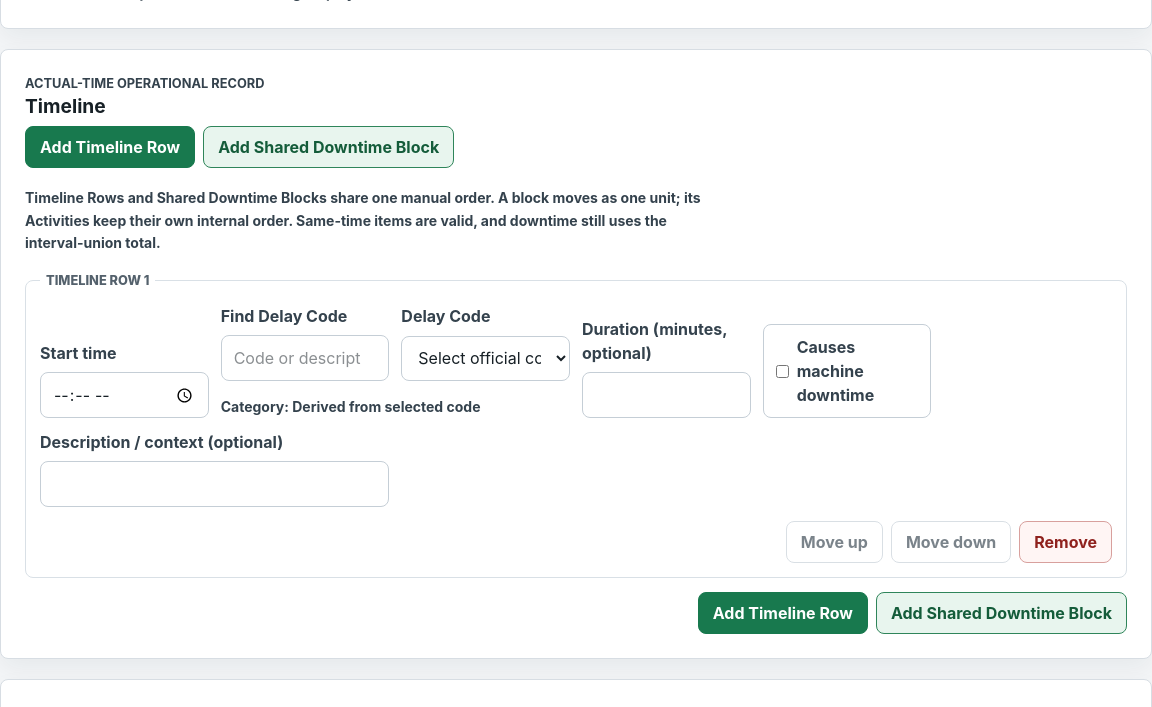
it: DraglineDelayReportForm › provides one searchable, category-grouped official Delay Code control
The image size is (1152, 707).
(page scrolled)
Type "surveying" into the search field named "Find Delay Code for row 1" at {"x": 305, "y": 358}, box top-left (221, 335), bottom-right (389, 381)
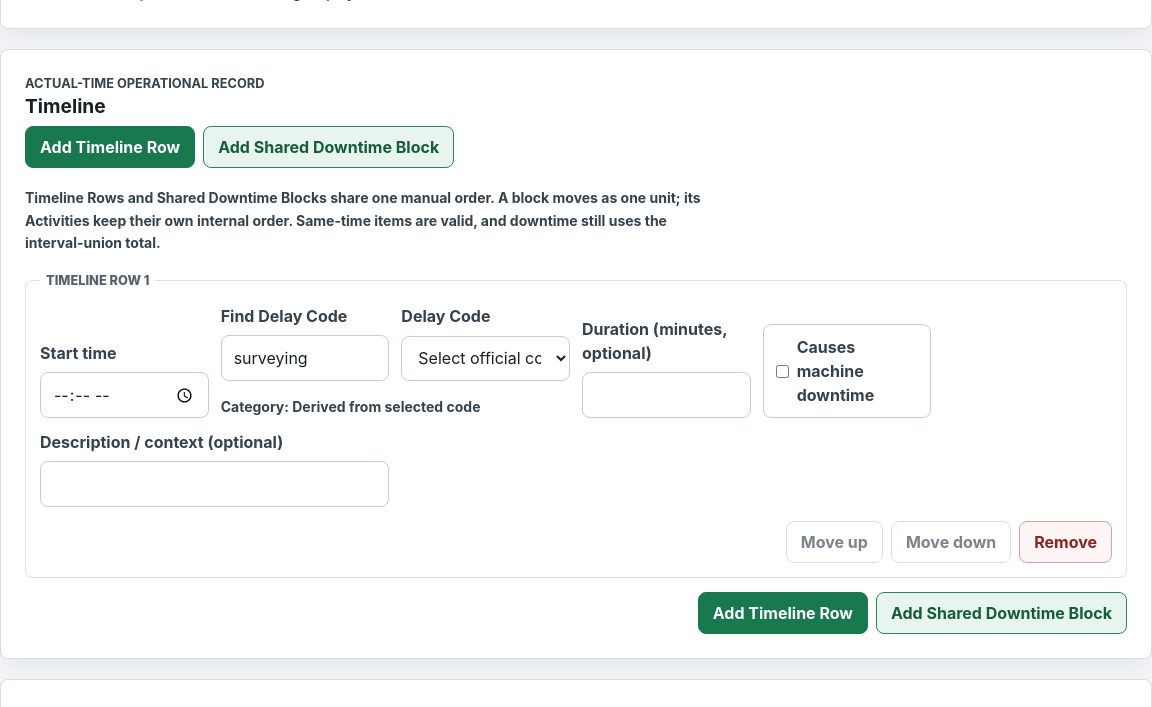
Select "26 — Surveying" in the dropdown named "Delay Code for row 1" at {"x": 486, "y": 358}, box top-left (401, 336), bottom-right (570, 381)
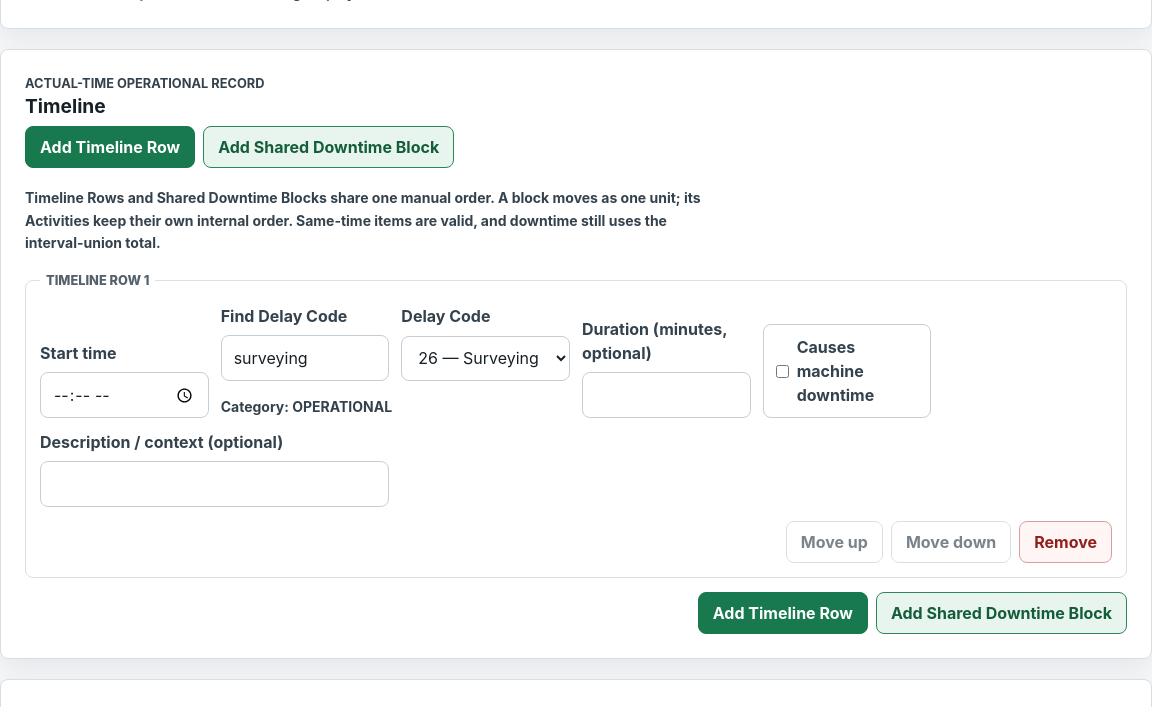
Expected: the text "Category: OPERATIONAL" is shown, top-left (221, 398), bottom-right (392, 415)
